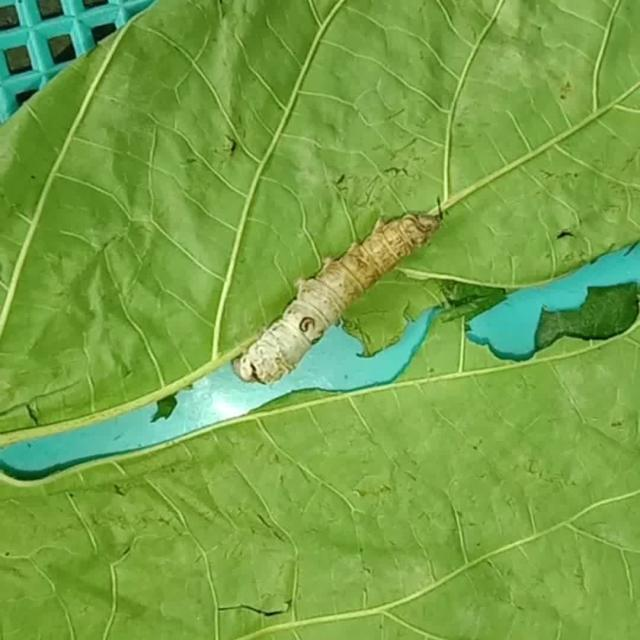Grasserie: (226, 187, 448, 390)
